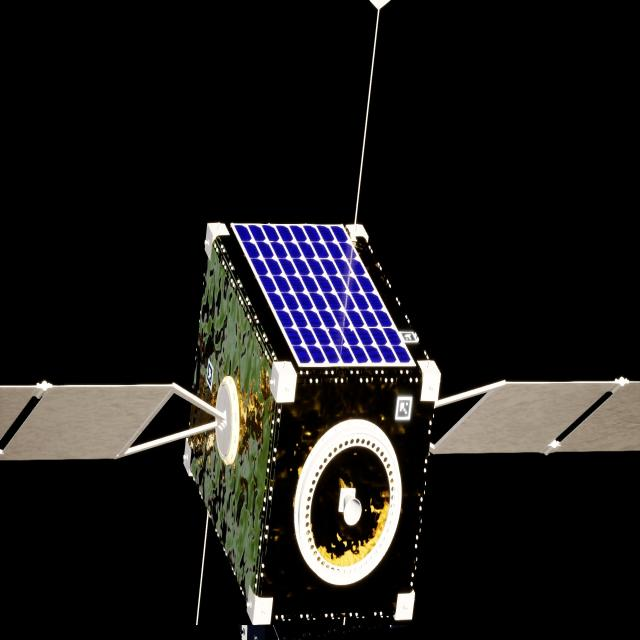medium_debris: (0, 222, 640, 615)
